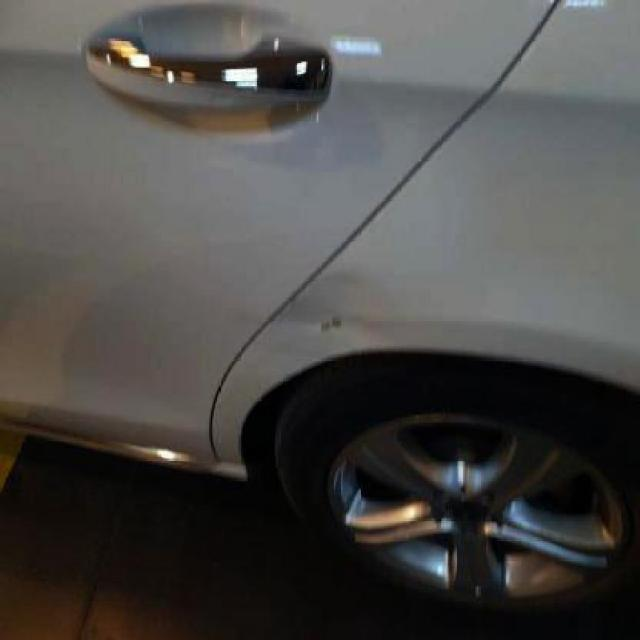car damage: (271, 255, 406, 348)
